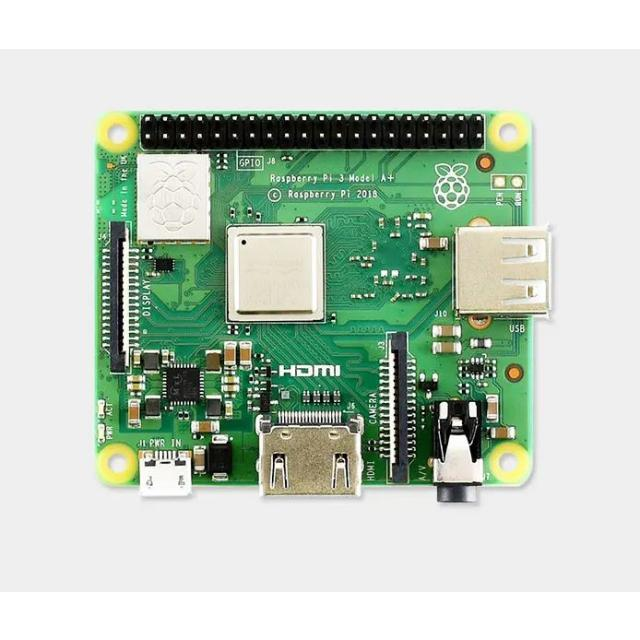Raspberry-Pi-3-A-: (97, 113, 551, 496)
